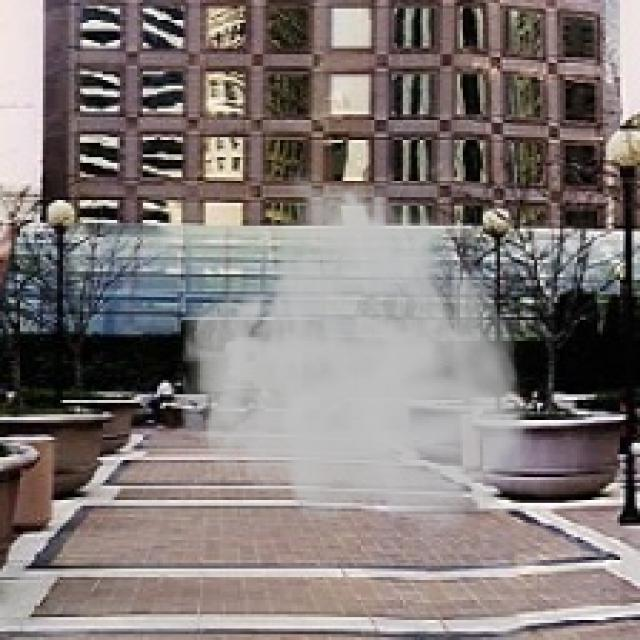smoke: (177, 163, 534, 540)
